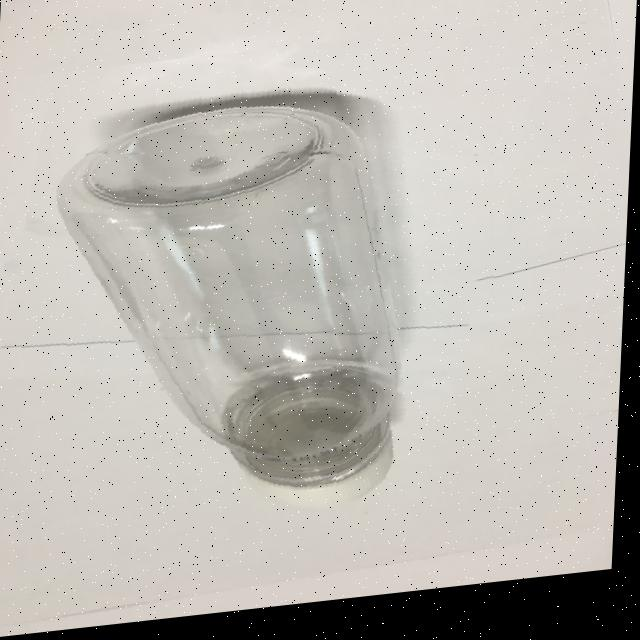plasticbottle: (0, 34, 516, 580)
plasticbottlecap: (290, 386, 463, 523)
